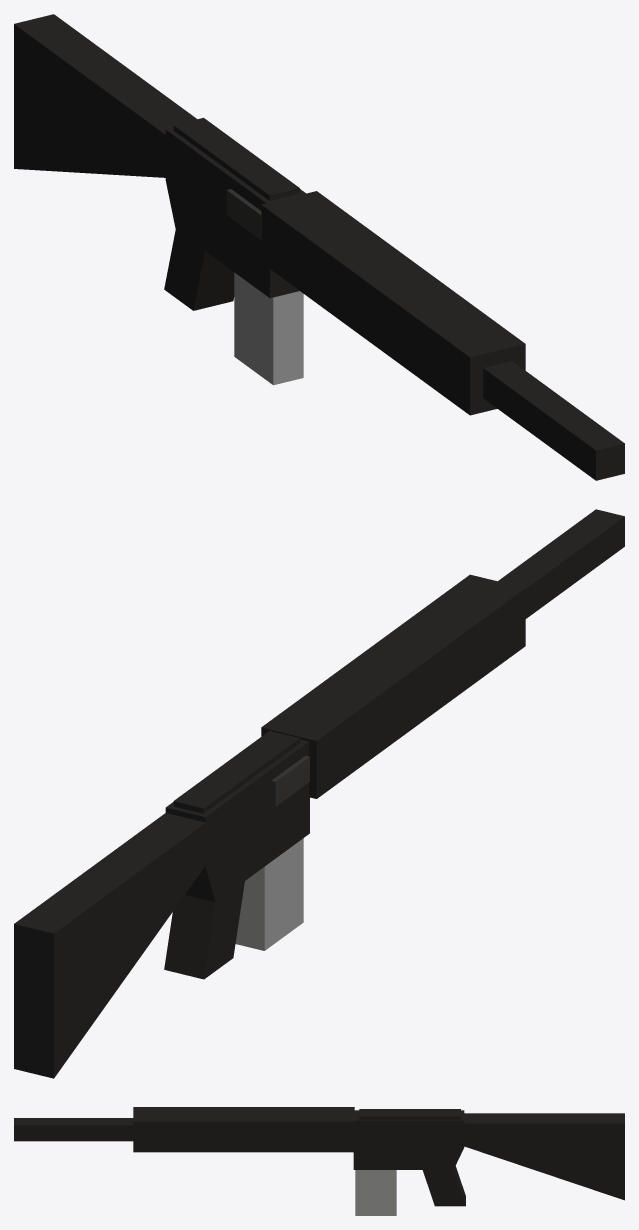
File: Rifle11.FBX
The picture shows the model from 3 angles, top to bottom: view 1: azimuth 30°, elevation 25°; view 2: azimuth 150°, elevation 25°; view 3: azimuth 270°, elevation 25°; orthographic projection. The views are drawn at different scales.
Parts seen in each view (by area): view 1: Rifle11, Rifle11Mag; view 2: Rifle11, Rifle11Mag; view 3: Rifle11, Rifle11Mag.
Boxes of the visible parts, box(x1,y1,x2,y2) form: Rifle11: box(14, 14, 624, 480); Rifle11Mag: box(234, 272, 303, 385); Rifle11: box(14, 509, 624, 1078); Rifle11Mag: box(235, 838, 303, 950); Rifle11: box(14, 1107, 624, 1206); Rifle11Mag: box(355, 1170, 396, 1215).
Size of the model in its own units: 13.57 by 244 by 43.66.
